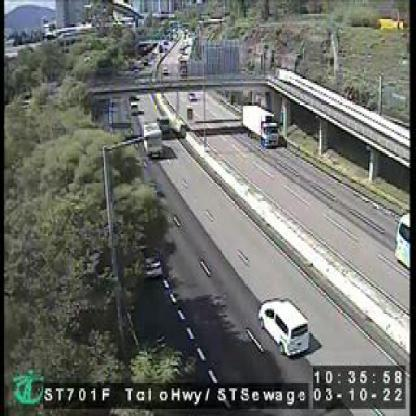Car: (257, 298, 311, 354), (157, 115, 169, 134)
Truck: (242, 104, 278, 147), (142, 122, 164, 154)
